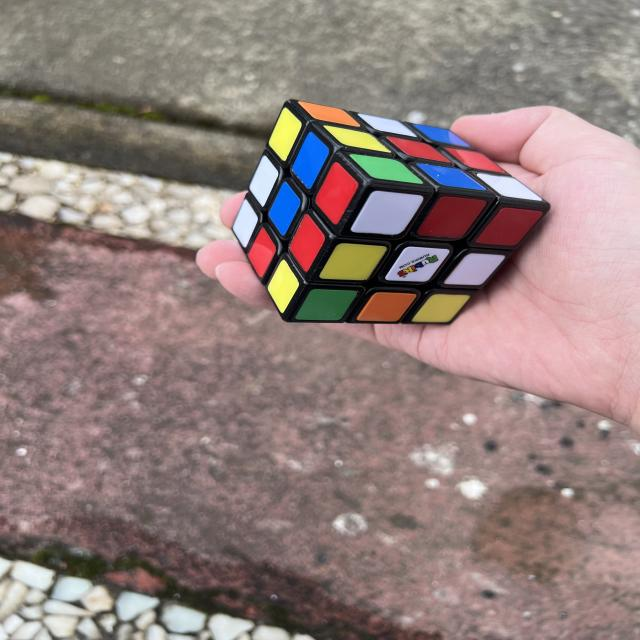blue: (286, 131, 334, 190), (262, 181, 306, 236), (415, 163, 488, 192), (411, 123, 472, 148)
center: (385, 244, 450, 285), (262, 181, 306, 236), (385, 136, 452, 163)
green: (347, 153, 425, 185), (295, 288, 358, 322)
orange: (356, 291, 417, 324), (296, 101, 362, 128)
red: (470, 190, 543, 267), (308, 161, 363, 225), (418, 193, 487, 242), (281, 213, 332, 272), (241, 226, 283, 278), (385, 136, 452, 163), (443, 146, 507, 174)
white: (442, 236, 507, 304), (350, 188, 424, 239), (385, 244, 450, 286), (243, 155, 284, 206), (475, 172, 544, 201), (227, 198, 264, 249), (356, 113, 418, 138)
yellow: (319, 242, 387, 282), (259, 258, 306, 314), (263, 106, 306, 162), (321, 124, 392, 153), (411, 293, 470, 323)
